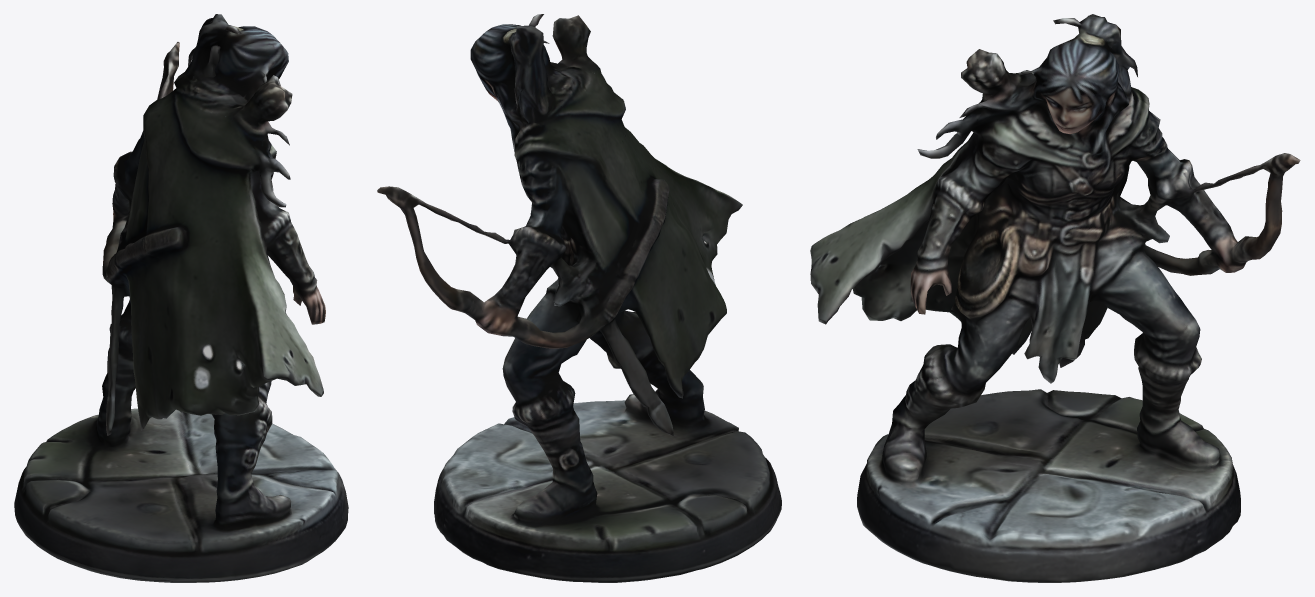
Rendered from alissa.glb.
The picture shows the model from 3 angles, left to right: view 1: azimuth 30°, elevation 25°; view 2: azimuth 150°, elevation 25°; view 3: azimuth 270°, elevation 25°; orthographic projection. The views are drawn at different scales.
Visible parts, largest first — view 1: lagrange_node; view 2: lagrange_node; view 3: lagrange_node.
Part boxes in pixels (left/top/right/bottom): lagrange_node: left=14, top=14, right=348, bottom=582; lagrange_node: left=377, top=14, right=781, bottom=582; lagrange_node: left=810, top=14, right=1300, bottom=582.
Size of the model in its own units: 1.29 by 2.01 by 1.71.
1 material, 1 textured.
